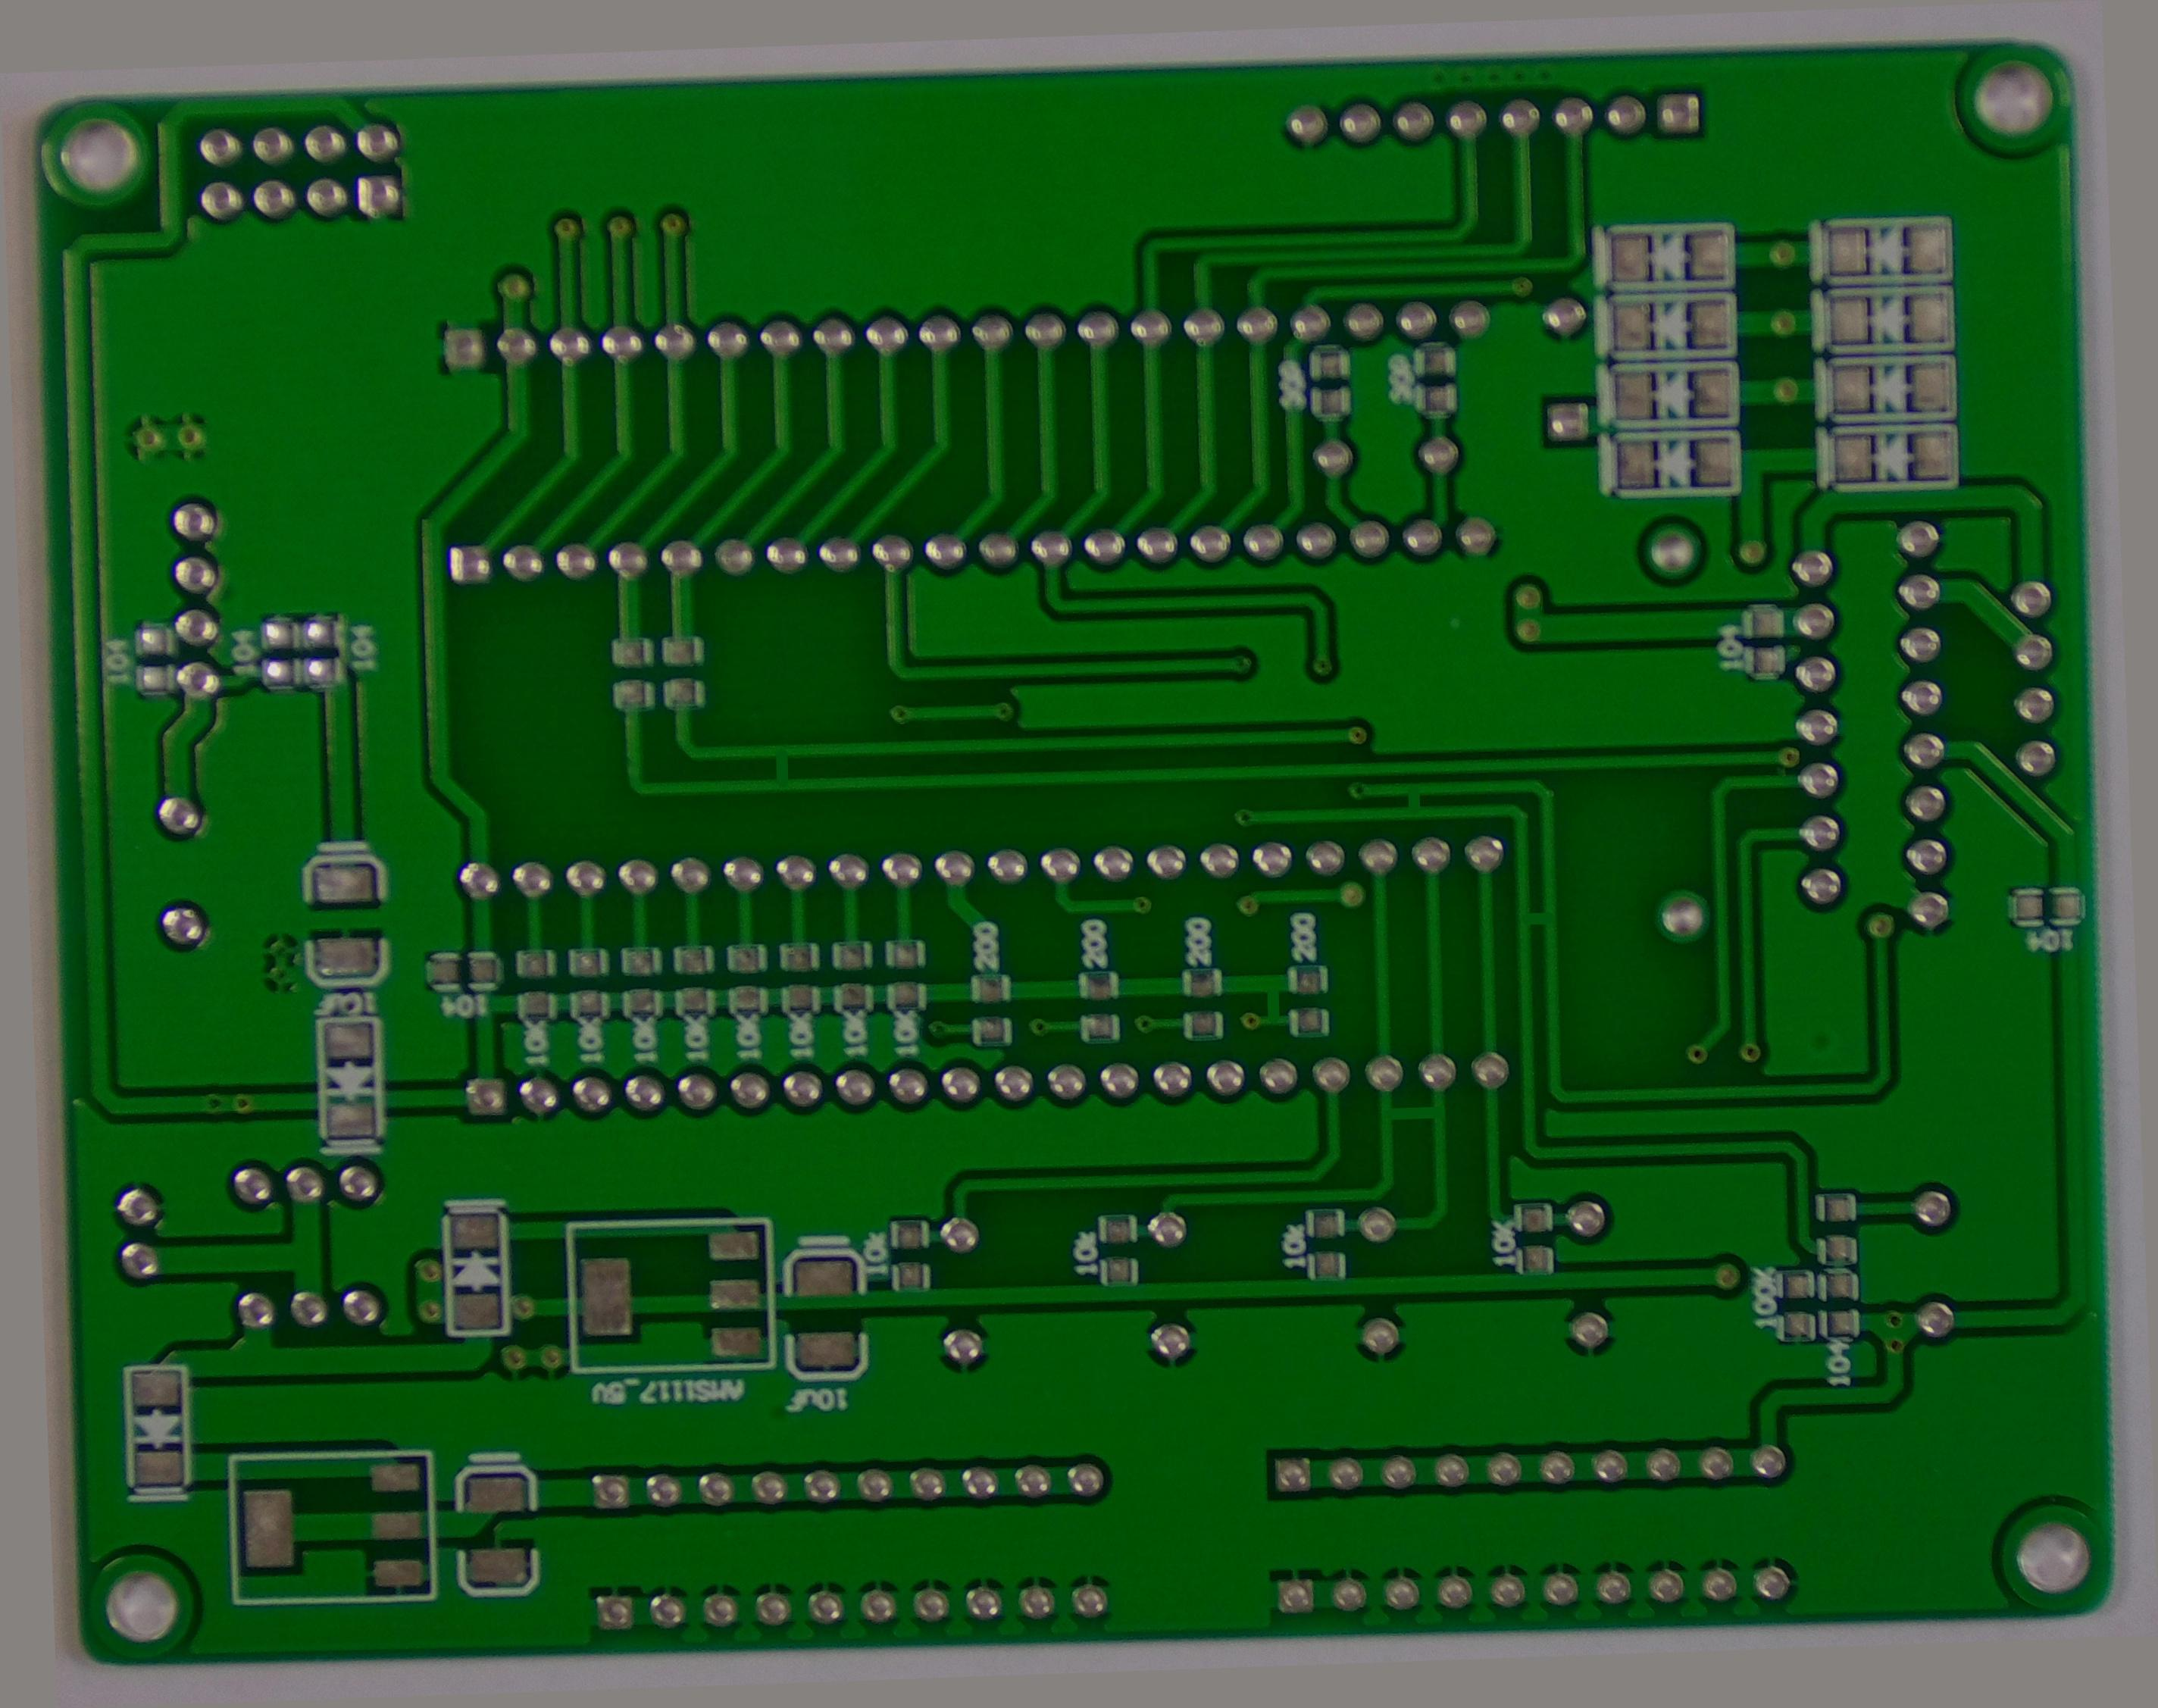short: (1368, 1091, 1461, 1140), (1247, 963, 1300, 1032), (753, 730, 806, 797), (1508, 897, 1568, 944), (1386, 778, 1433, 827)
